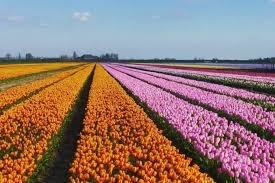field: (0, 64, 274, 182), (0, 64, 93, 182), (0, 72, 65, 108)
